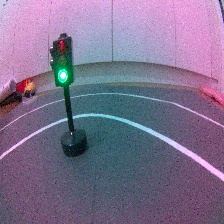green: (47, 33, 91, 157)
